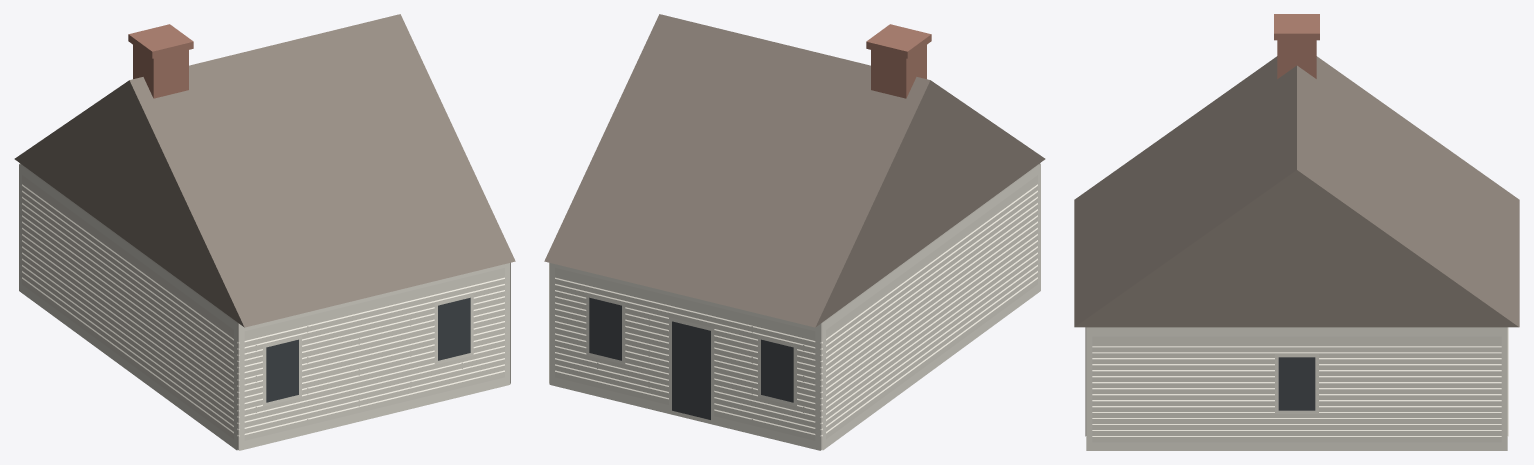
Rendered from recon_1835_blk_south_water_franklin_d5_01__inferred_1835.glb.
3 views of the same model, side by side, from view 1: azimuth 30°, elevation 25°; view 2: azimuth 150°, elevation 25°; view 3: azimuth 270°, elevation 25° (orthographic). The views are drawn at different scales.
Parts seen in each view (by area): view 1: recon_1835_blk_south_water_franklin_d5_01__inferred_1835; view 2: recon_1835_blk_south_water_franklin_d5_01__inferred_1835; view 3: recon_1835_blk_south_water_franklin_d5_01__inferred_1835.
Part boxes in pixels (x1,y1,x2,y2): recon_1835_blk_south_water_franklin_d5_01__inferred_1835: (14,14,515,450); recon_1835_blk_south_water_franklin_d5_01__inferred_1835: (544,14,1045,450); recon_1835_blk_south_water_franklin_d5_01__inferred_1835: (1074,14,1519,450).
Size of the model in its own units: 6.5 by 7.35 by 9.45.
